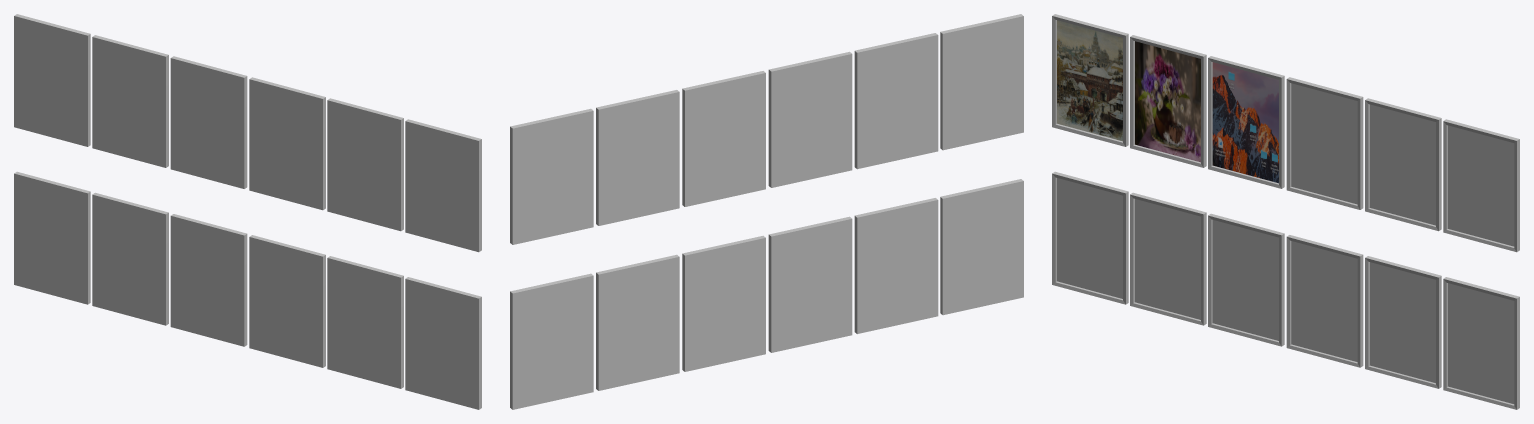
3 renders of one model, left to right at view 1: azimuth 90°, elevation 25°; view 2: azimuth 150°, elevation 25°; view 3: azimuth 270°, elevation 25°, orthographic. The views are drawn at different scales.
Visible parts, largest first — view 1: _3dxy; view 2: _3dxy; view 3: _3dxy.
Boxes of the visible parts, bbox=[...] form: _3dxy: bbox=[14, 14, 481, 409]; _3dxy: bbox=[510, 14, 1023, 409]; _3dxy: bbox=[1052, 14, 1519, 409].
Bounding box in the file's own units: 994 × 982 × 1547.
